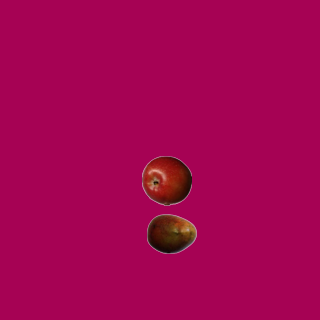Apple Braeburn: (141, 155, 191, 205)
Mango Red: (146, 208, 196, 258)
